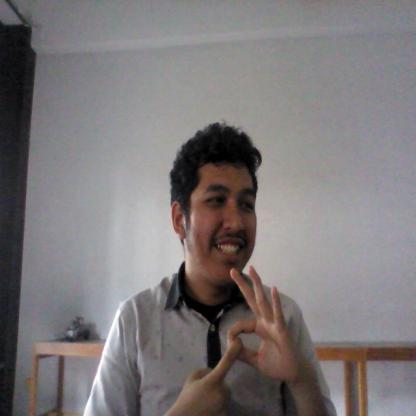Q: (180, 264, 296, 416)
